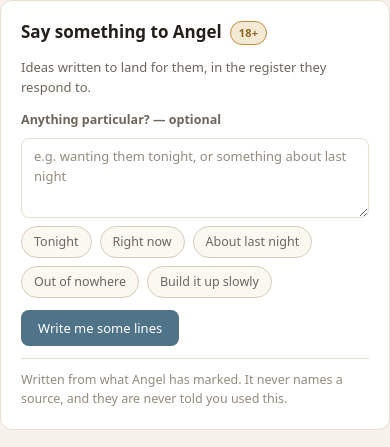
Test: SayLines (75) › a chip FILLS the brief box rather than replacing what they typed (§3.1)
Type "about last night" into the text box labelled "Anything particular? — optional" at (195, 178), box [21,138,369,218]
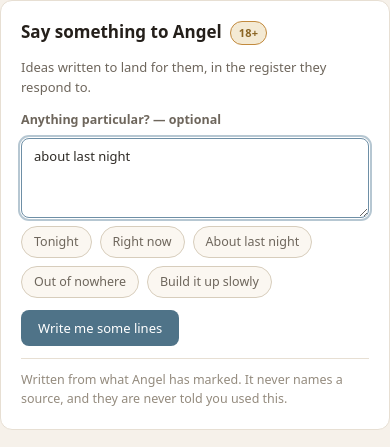
Click the button "Tonight" at (56, 242), box [21,226,92,258]
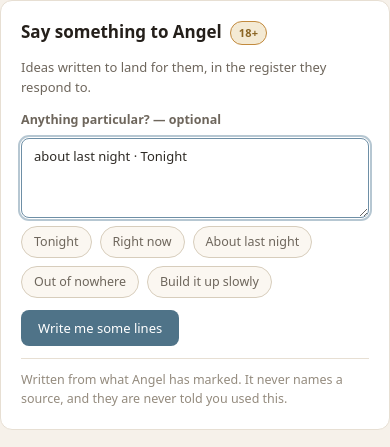
Expected: the text box labelled "Anything particular? — optional" holds "about last night · Tonight", [21,138,369,218]
